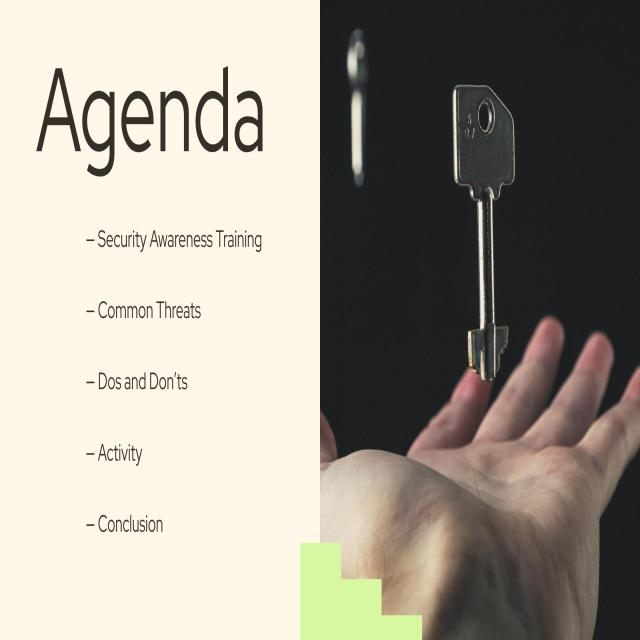image: (322, 0, 640, 636)
text: (75, 227, 272, 557)
title: (31, 57, 273, 187)
